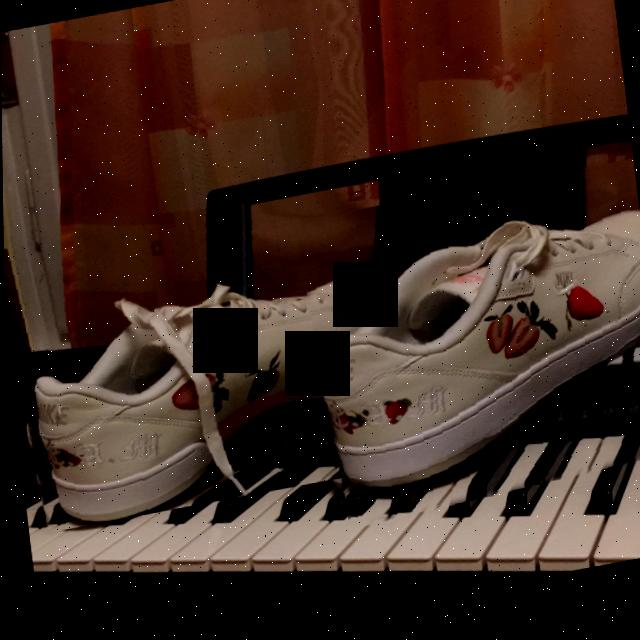shoe: (2, 187, 418, 537), (292, 168, 640, 540)
